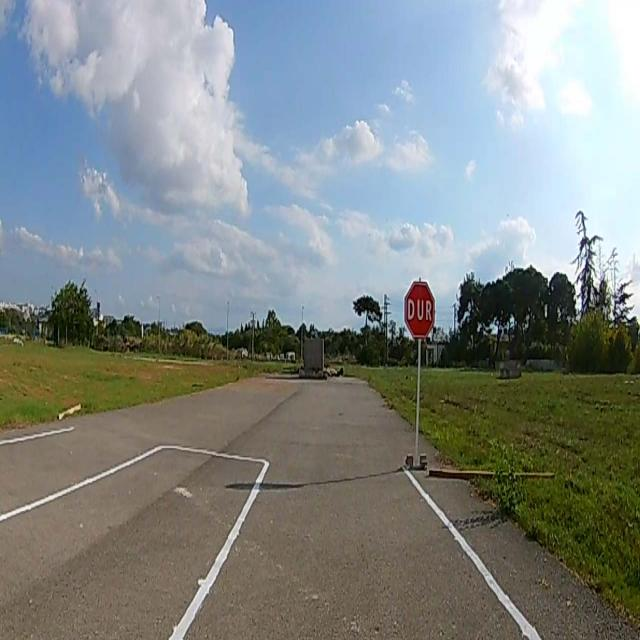dur: (405, 281, 435, 339)
